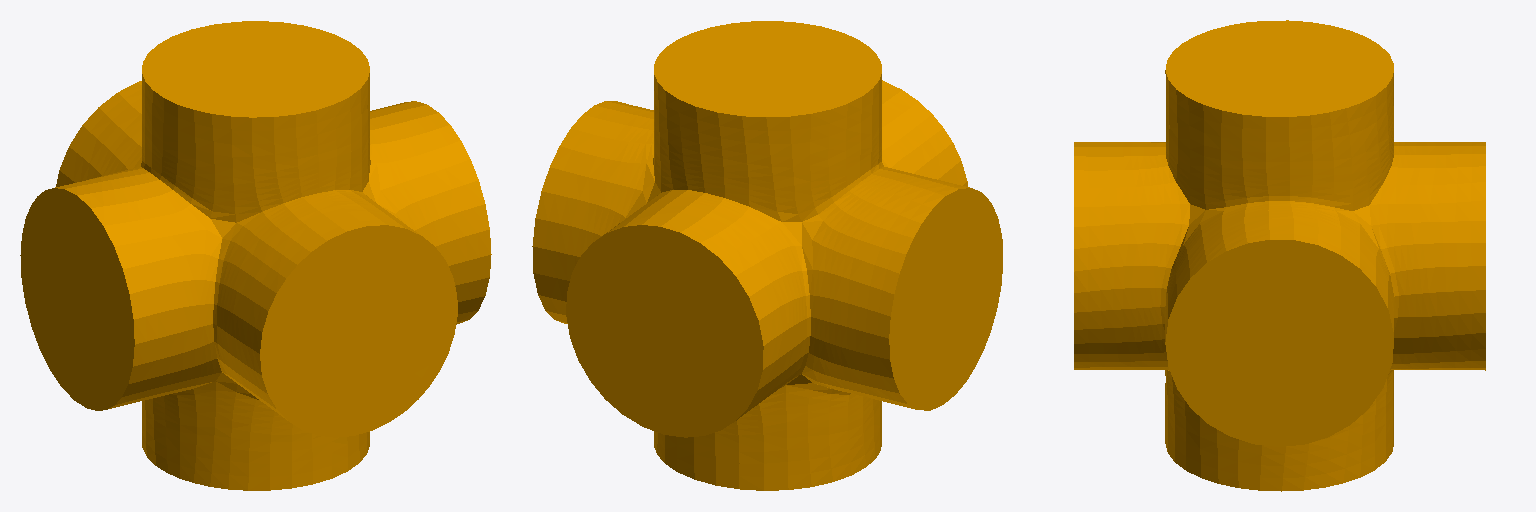
The robot description file, URDF, robot "object":
<robot name="object">
  <link name="object">
    <visual>
      <origin xyz="0 0 0"/>
      <geometry>
        <mesh filename="visual.obj" scale="1 1 1"/>
      </geometry>
    </visual>
    <collision>
      <origin xyz="0 0 0"/>
      <geometry>
        <mesh filename="visual.obj" scale="1 1 1"/>
      </geometry>
    </collision>
    <inertial>
      <mass value="0.05"/>
      <inertia ixx="4.693140791867905e-05" iyy="4.6919836843152e-05" izz="4.691528281120209e-05" ixy="4.72318009490136e-09" ixz="3.4732945559118744e-11" iyz="-3.91430963622966e-09"/>
    </inertial>
  </link>
</robot>

--- What the picture shows (computed from the rendered views, not written in the file) ---
Views: 3 orthographic renders of the robot side by side, from view 1: azimuth 30°, elevation 25°; view 2: azimuth 150°, elevation 25°; view 3: azimuth 270°, elevation 25°.
Robot: object — 1 links, 0 joints (none); root link object; default pose: all joints at 0.
Links seen in each view (by area): view 1: object; view 2: object; view 3: object.
Link boxes in pixels (<box>): object: <box>20,21,491,490</box>; object: <box>532,21,1002,490</box>; object: <box>1074,20,1485,491</box>.
Size in the robot's own frame: 0.096 by 0.096 by 0.096 metres.
1 mesh visuals loaded from 1 distinct referenced files (1 OBJ).
